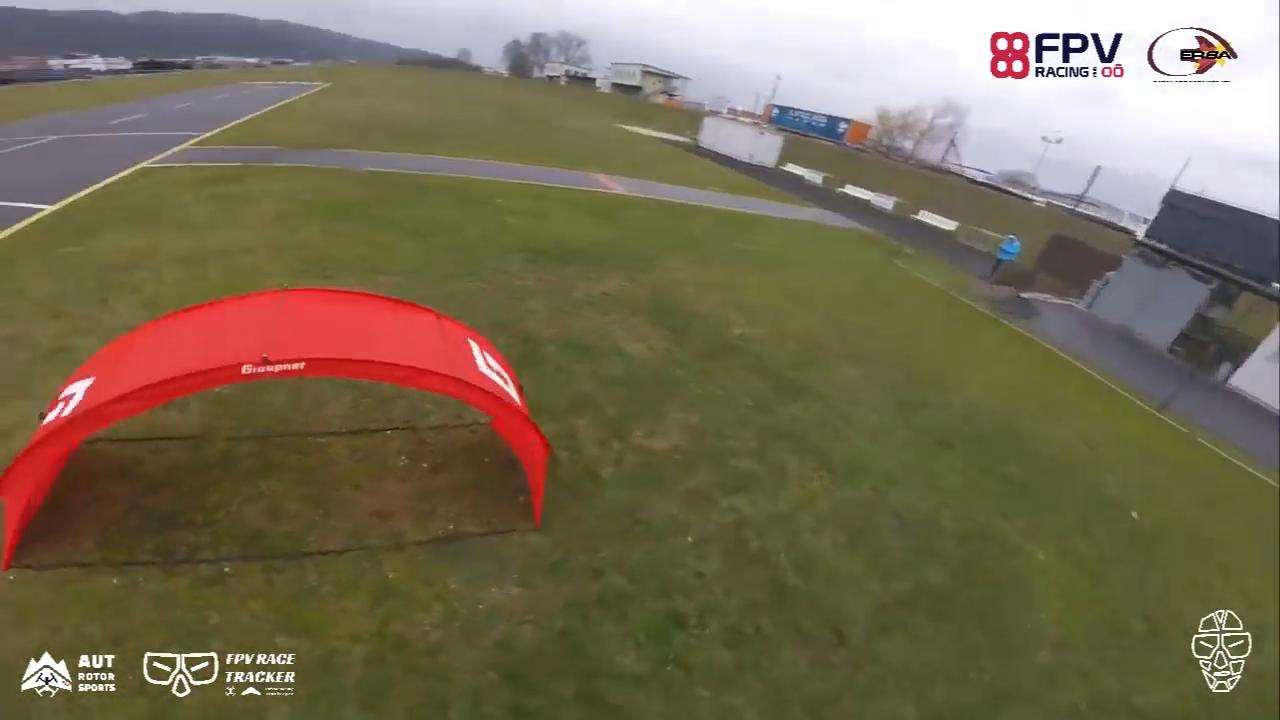gate: (1, 282, 558, 576)
